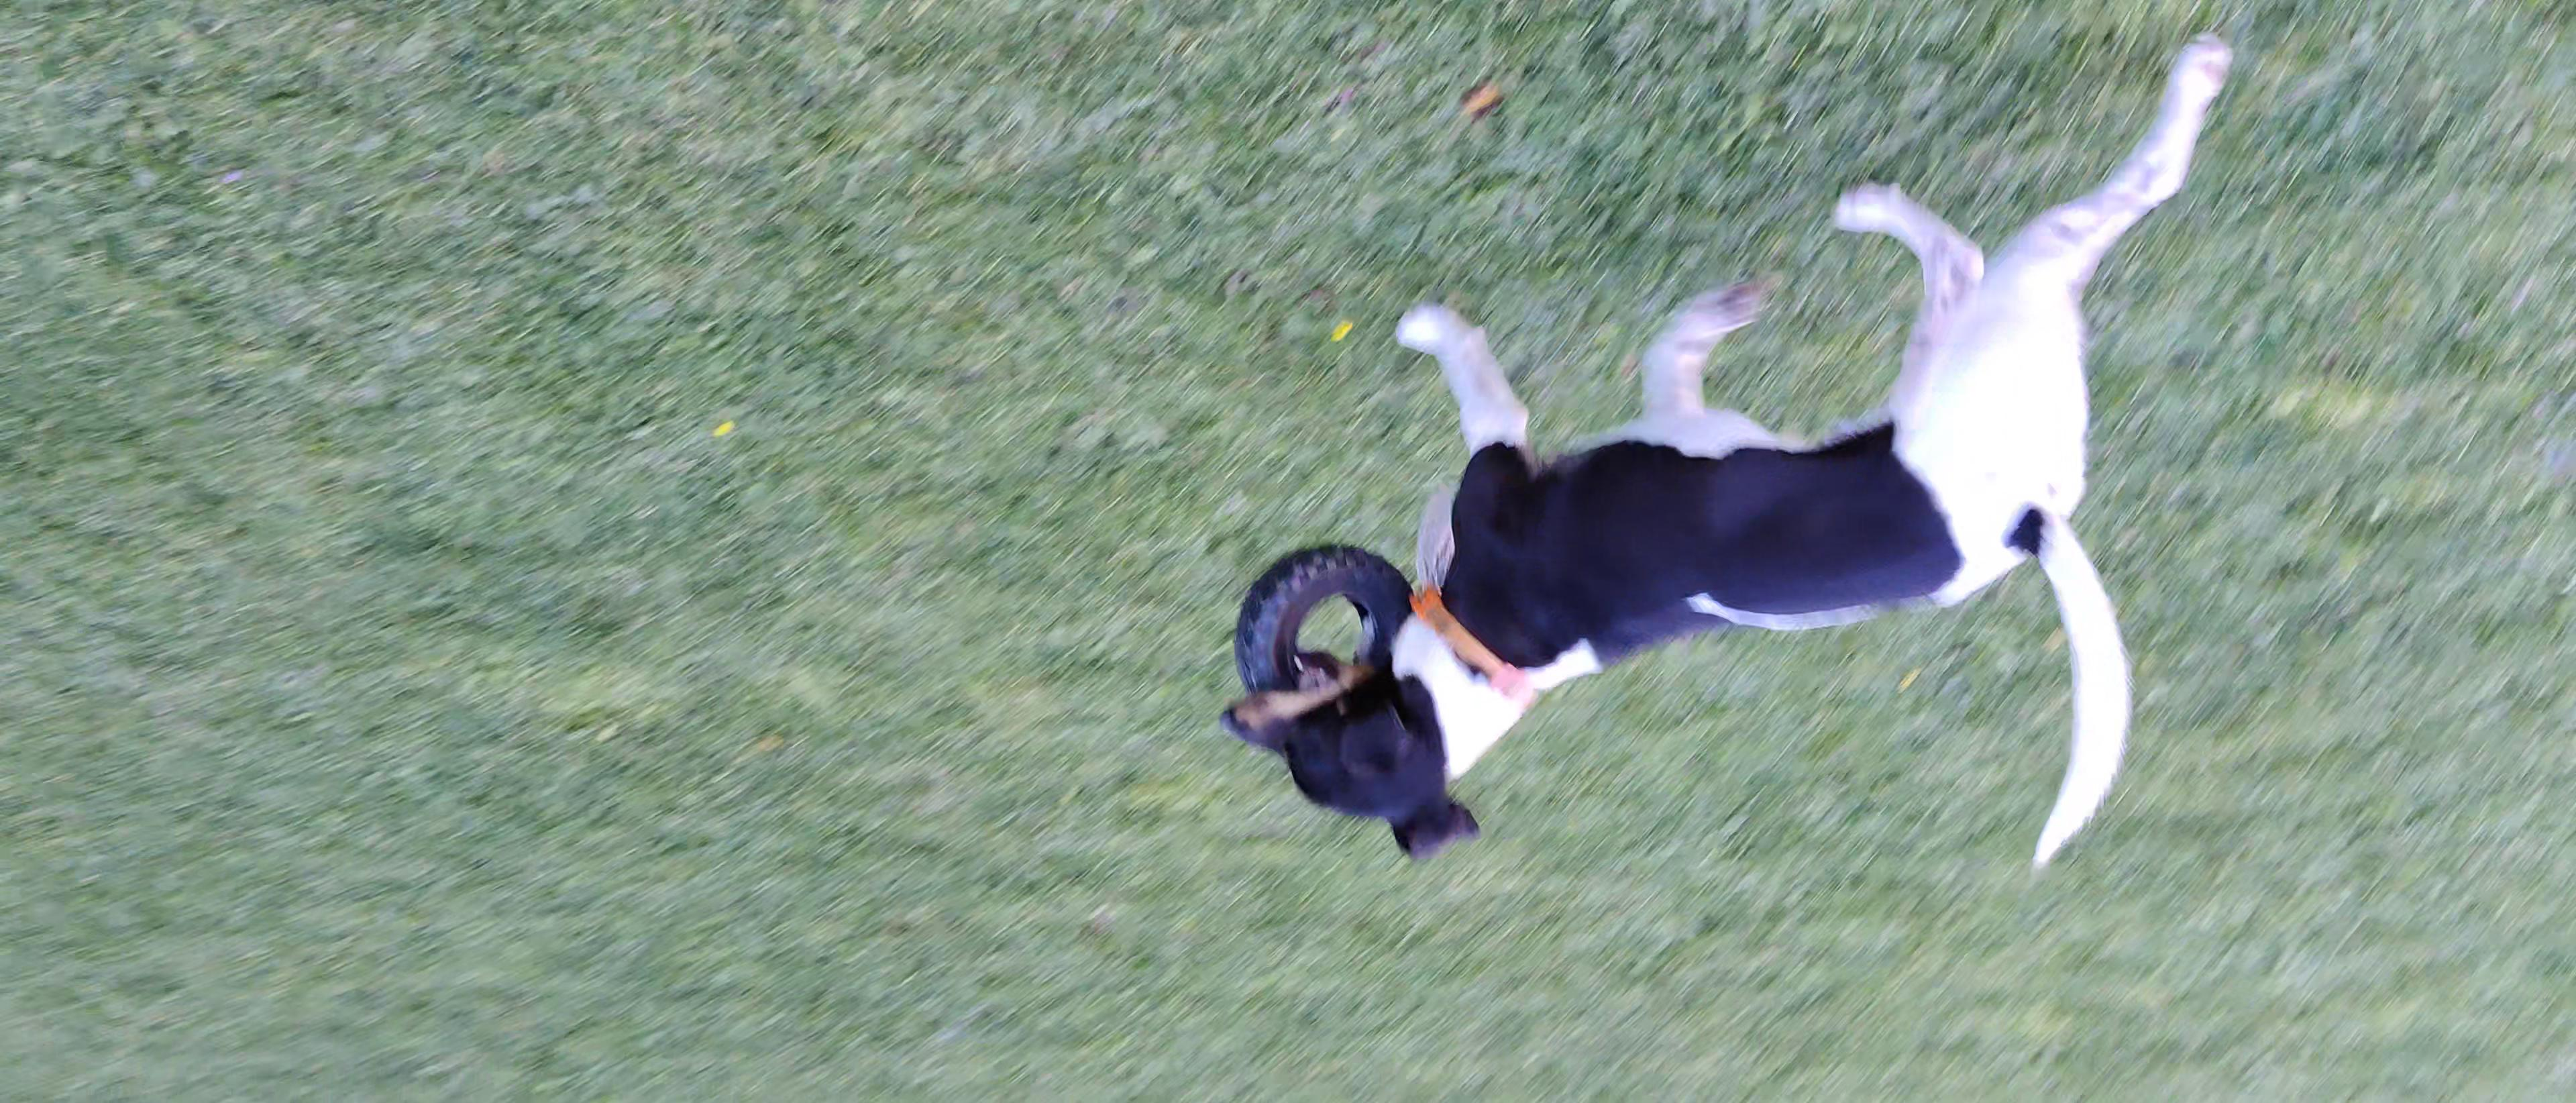Dog: (1212, 23, 2239, 876)
